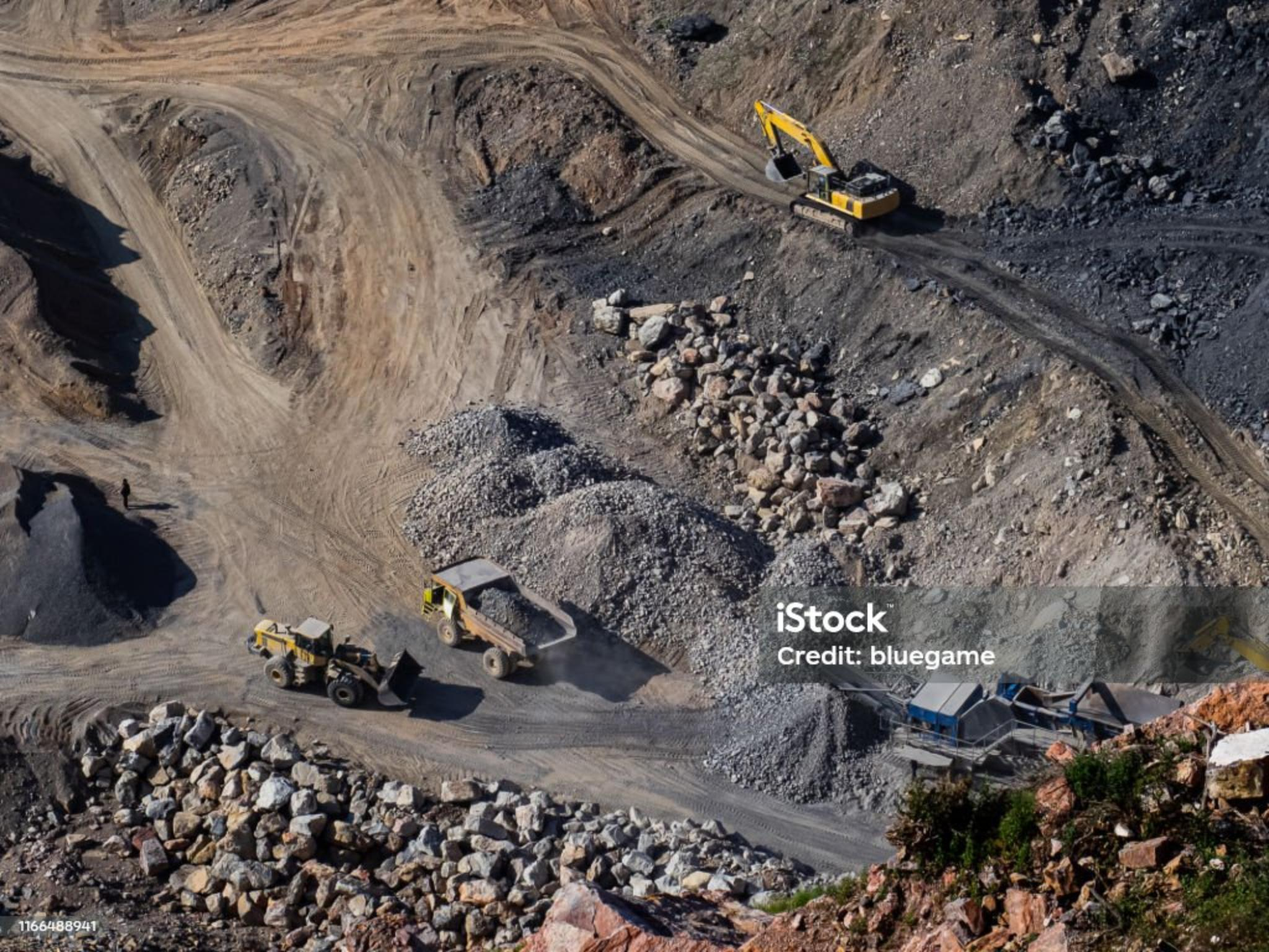benches: (0, 0, 887, 870), (827, 211, 1268, 555), (1038, 213, 1268, 269)
excavator: (737, 89, 936, 244), (246, 605, 442, 711)
truck: (421, 558, 572, 665)
